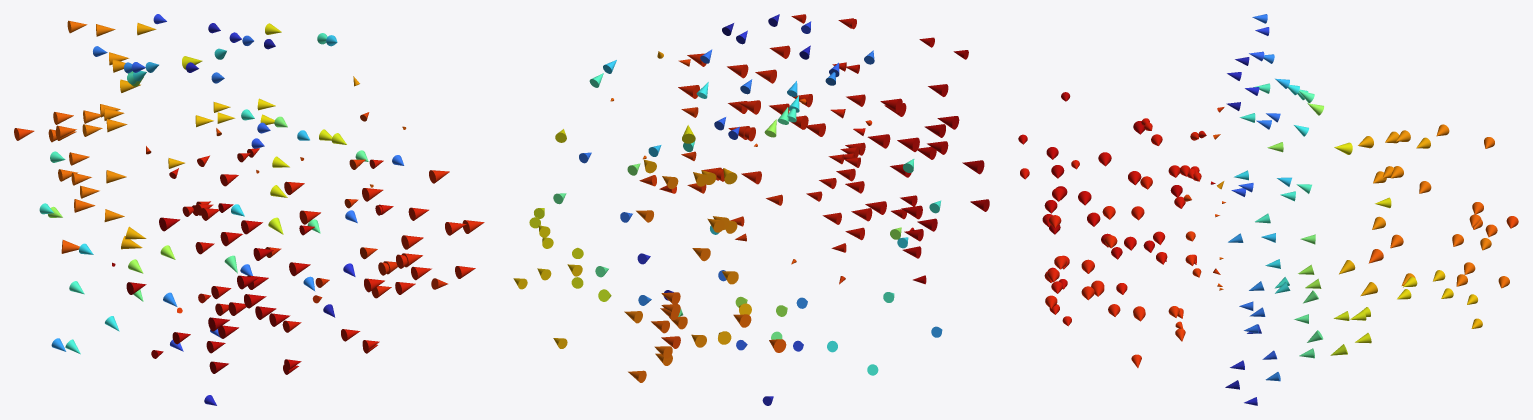
Rendered from LineasCorrienteH2-O2_mh2-5.58_V-0.8.glb.
3 renders of one model, left to right at view 1: azimuth 30°, elevation 25°; view 2: azimuth 150°, elevation 25°; view 3: azimuth 270°, elevation 25°, orthographic. The views are drawn at different scales.
Size of the model in its own units: 0.000925 by 0.000969 by 0.00123.
Materials: 2 (2 with a texture image).
